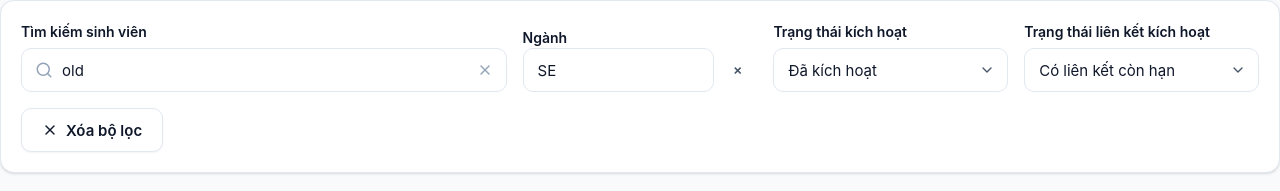
StudentFilterBar Component › always shows clear filters and resets all filters plus pending input
Replace the text in the field with placeholder "Nhập mã SV, họ tên hoặc email..." with "pending" at coordinates (264, 70), box [21, 48, 507, 92]
Wait 200 ms
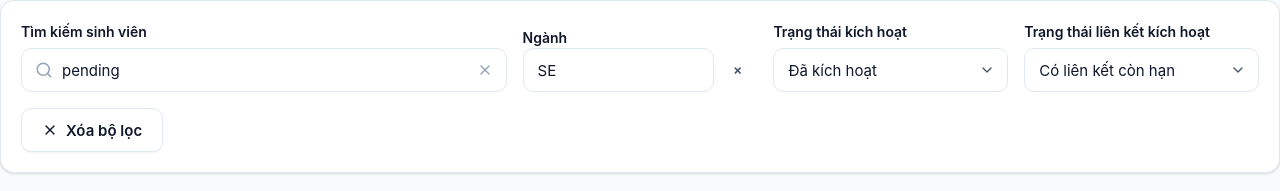
Click the button "Xóa bộ lọc" at coordinates (92, 130), box [21, 108, 163, 152]
Wait 500 ms
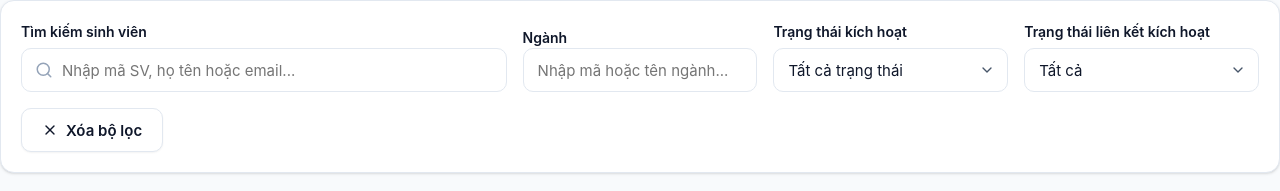
Now the field with placeholder "Nhập mã SV, họ tên hoặc email..." is empty, box [21, 48, 507, 92]
Now the dropdown labelled "Ngành" is empty, box [523, 48, 757, 92]
Now the dropdown labelled "Trạng thái kích hoạt" shows "Tất cả trạng thái", box [773, 48, 1008, 92]
